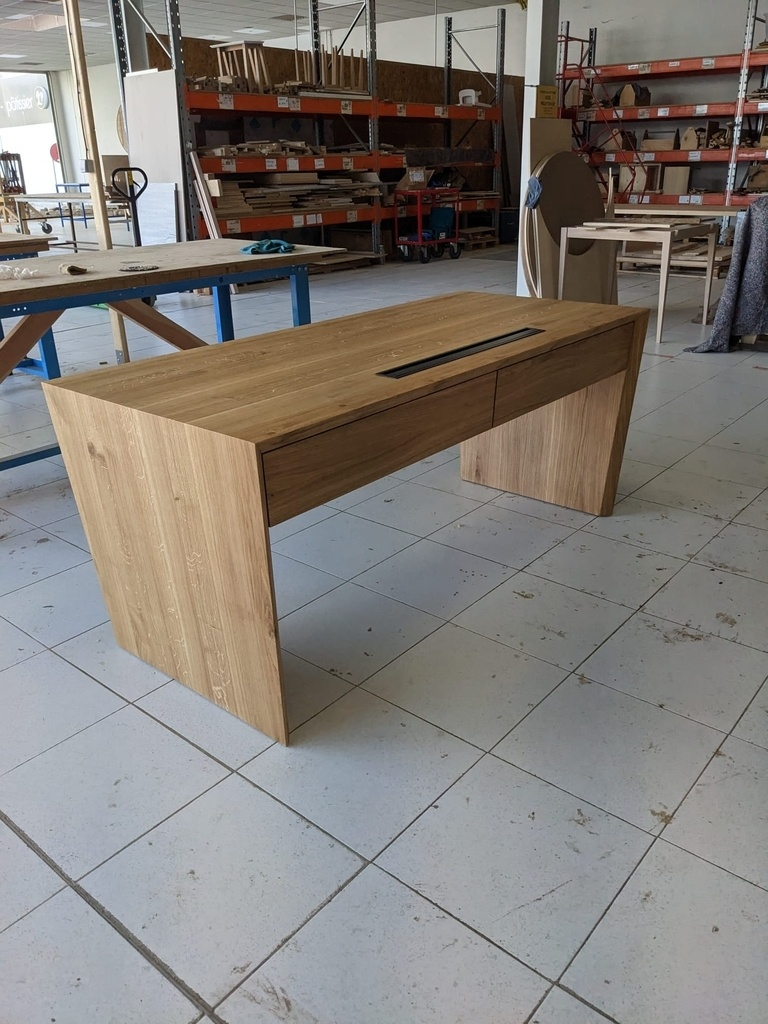Table: (132, 398, 386, 725)
